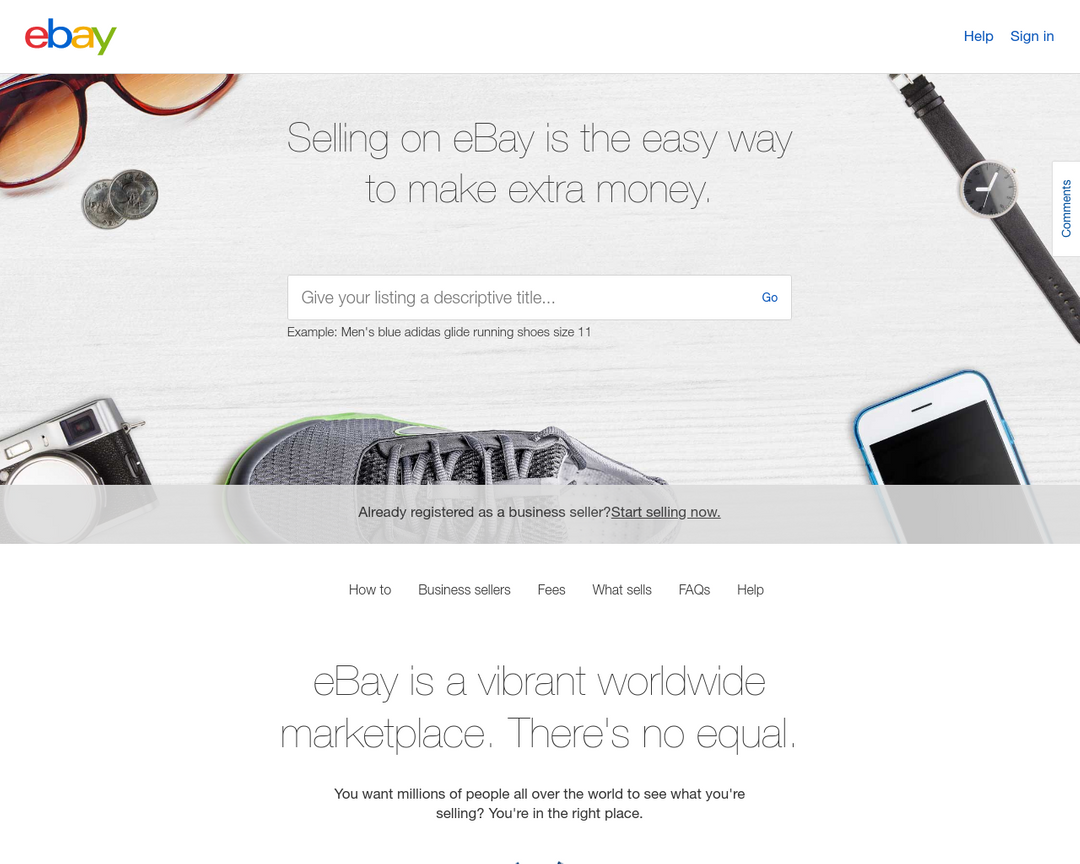Ebay: (19, 15, 122, 59)
